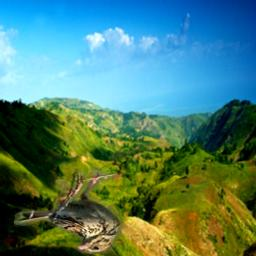Sparrow: (14, 168, 128, 254)
